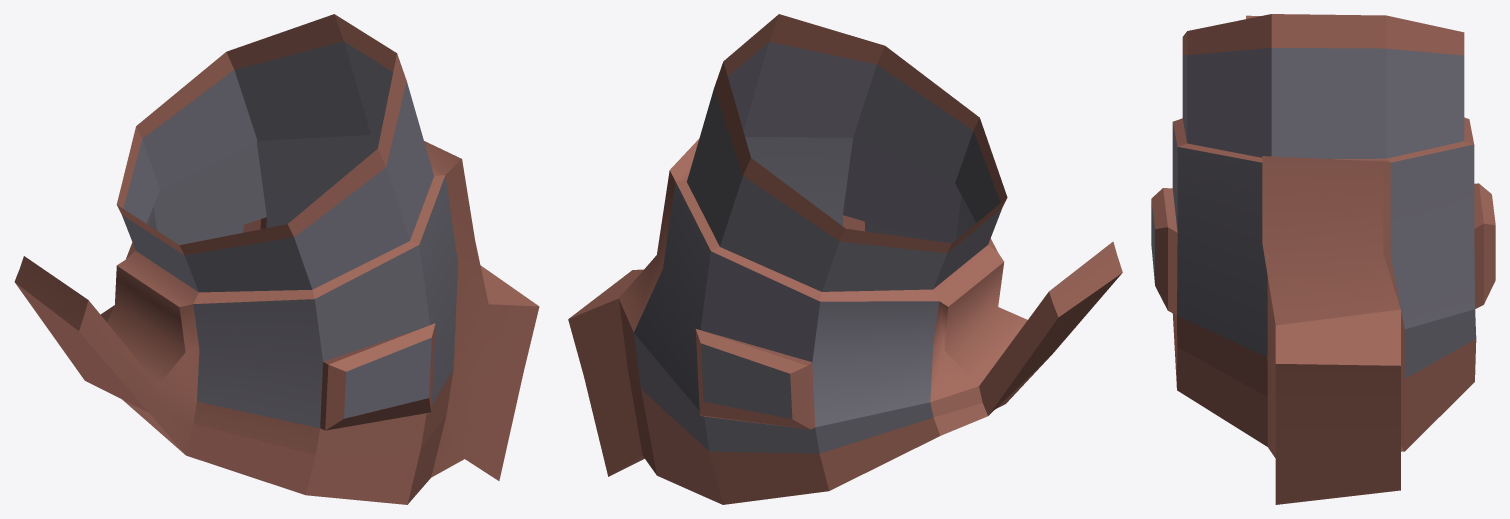
File: mediumspacetrash_kind3.fbx
The picture shows the model from 3 angles, left to right: view 1: azimuth 30°, elevation 25°; view 2: azimuth 150°, elevation 25°; view 3: azimuth 270°, elevation 25°; orthographic projection. The views are drawn at different scales.
Visible parts, largest first — view 1: pCylinder1; view 2: pCylinder1; view 3: pCylinder1.
Boxes of the visible parts, box(x1,y1,x2,y2) form: pCylinder1: box(14, 14, 539, 504); pCylinder1: box(568, 14, 1122, 504); pCylinder1: box(1151, 14, 1495, 504).
Size of the model in its own units: 332 by 303 by 214.
